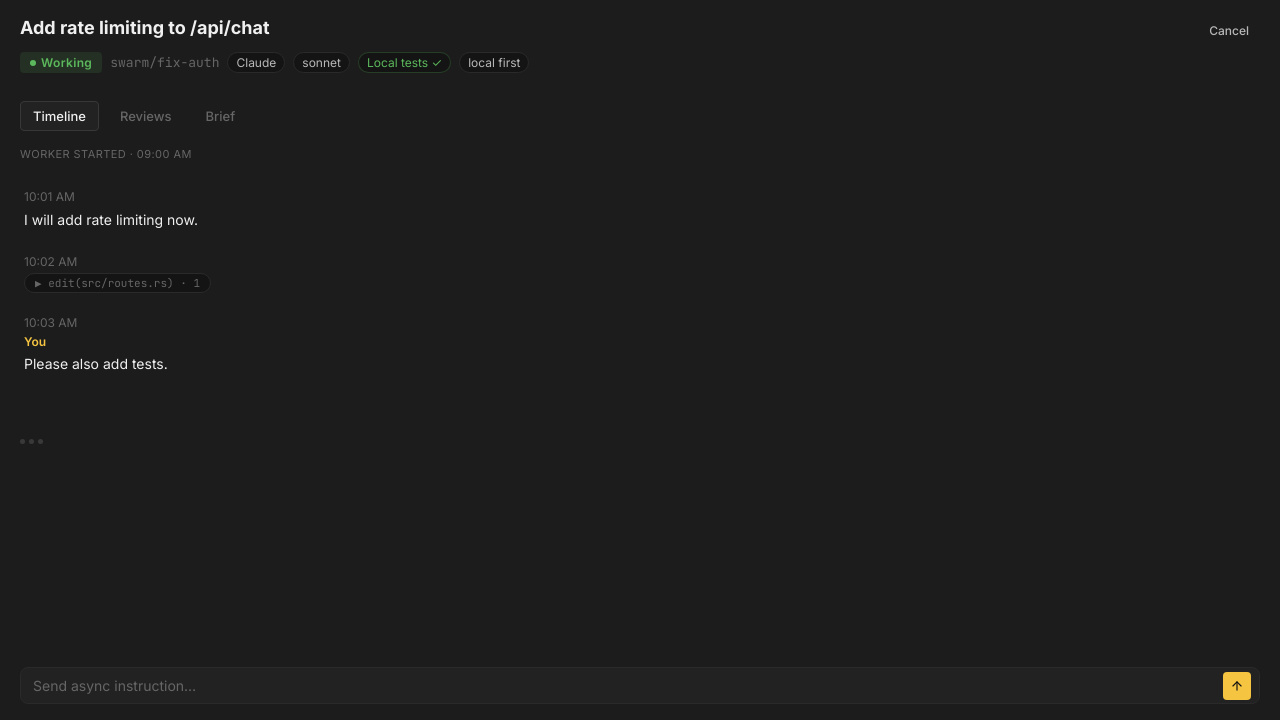
Scenario: WorkerDetailV2 › Brief tab renders coordinator task packet sections
Expected: the element with test id "status-badge" is shown, [20,52,102,73]
Click the tab "Brief" at {"x": 220, "y": 116}, box [192,101,248,131]
(page scrolled)
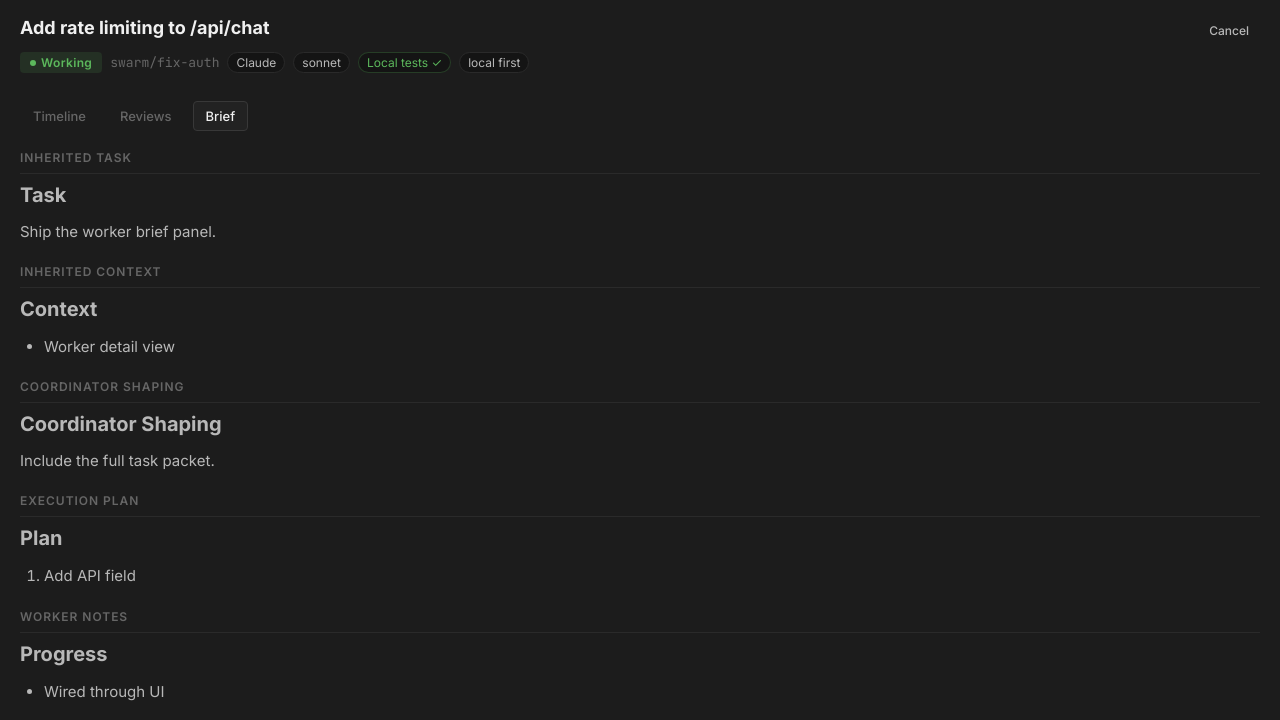
Result: the text "Ship the worker brief panel." is shown at [20,222,216,240]
Result: the list item "Worker detail view" is shown at [44,336,175,356]
Result: the list item "Add API field" is shown at [44,566,136,585]
